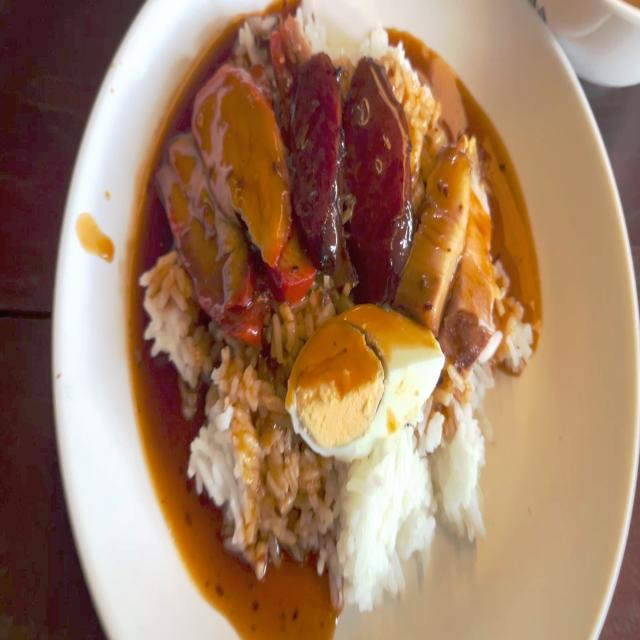boiled_egg: (288, 298, 444, 455)
chainese_sausage: (292, 54, 412, 277)
crispy_pork: (402, 137, 492, 344)
red_pork: (170, 70, 292, 334)
red_pork_and_crispy_pork: (139, 0, 533, 609)
rice: (197, 353, 317, 563), (306, 452, 431, 602), (441, 378, 485, 528), (150, 262, 198, 363)
